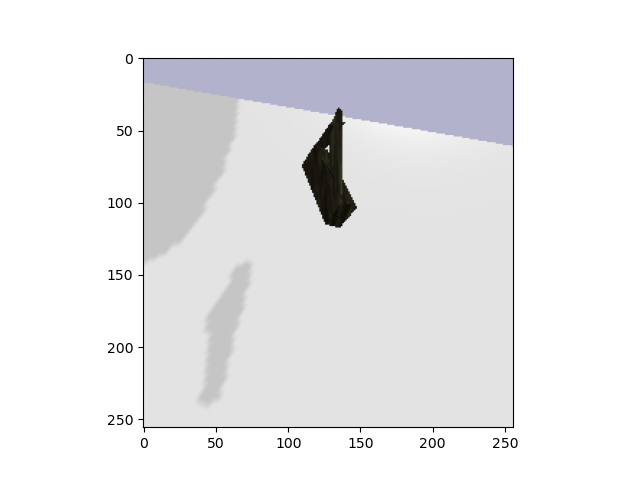v249b387_109: (291, 105, 369, 231)
